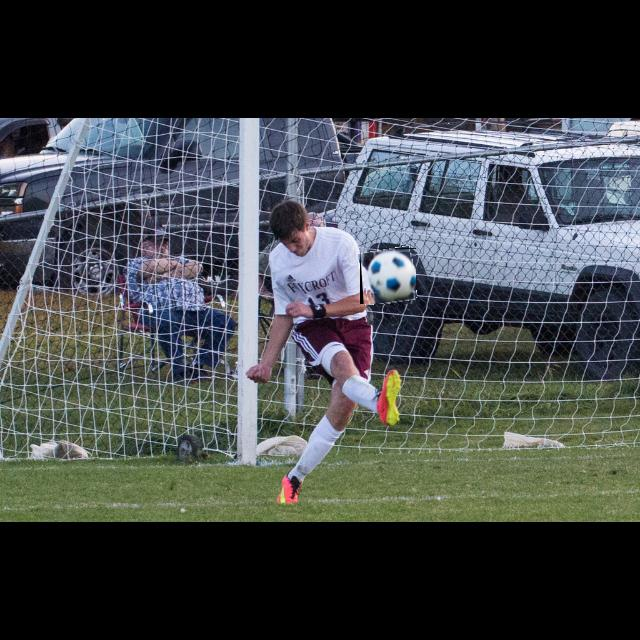Football: (360, 248, 416, 304)
